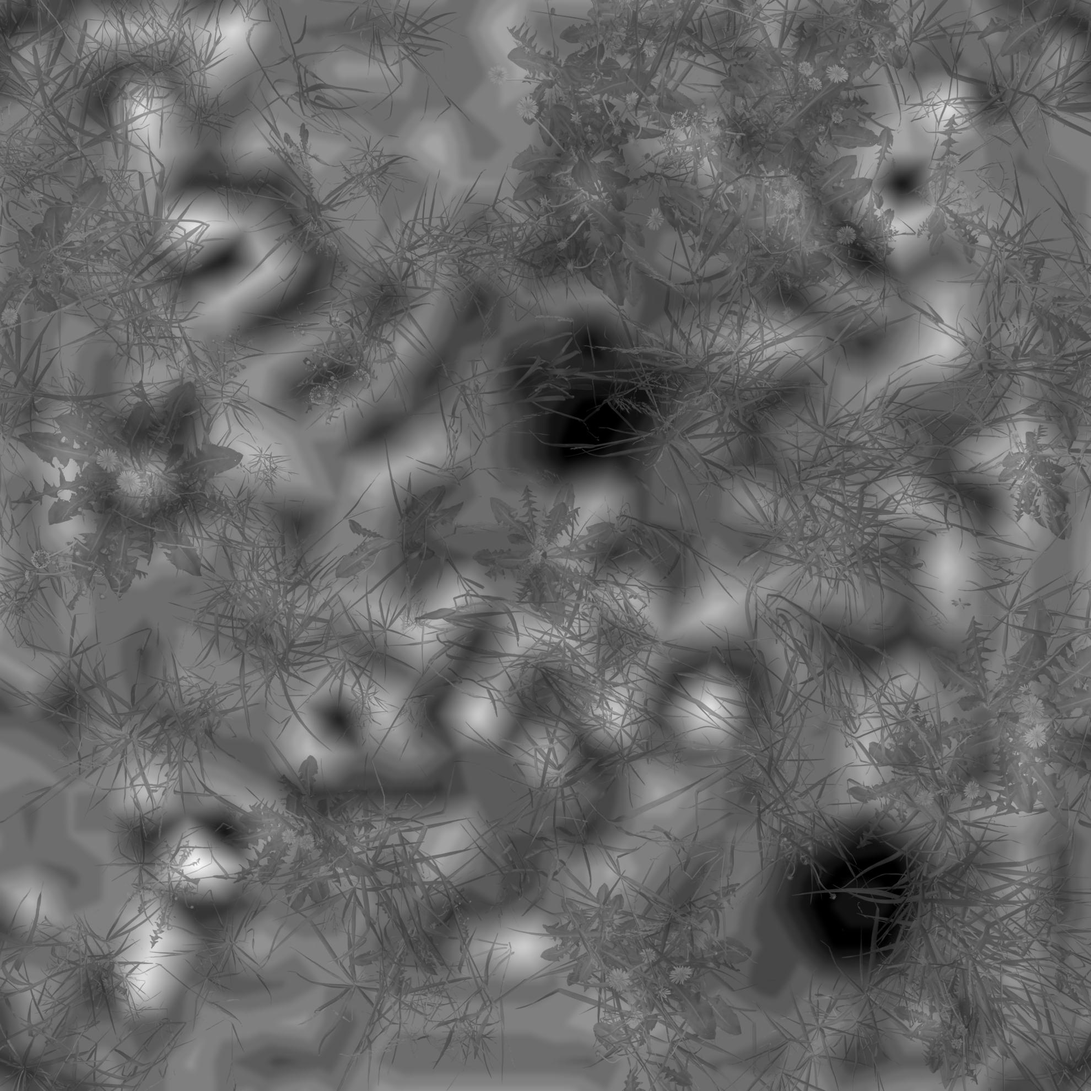landmine: (511, 333, 658, 491), (791, 833, 920, 959)
